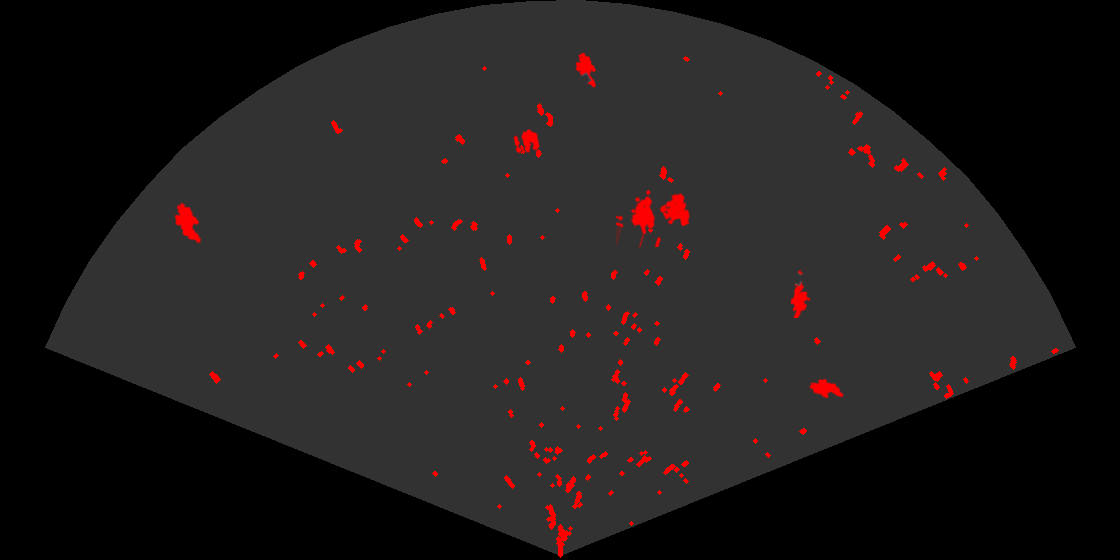AUV: (173, 201, 203, 245), (574, 51, 598, 90), (808, 377, 845, 400)
ball: (512, 128, 541, 155)
cage: (616, 188, 692, 247)
frogman: (789, 268, 812, 318)
